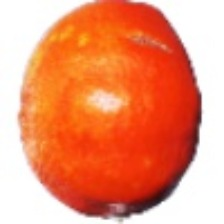tangerine: (21, 21, 203, 213)
